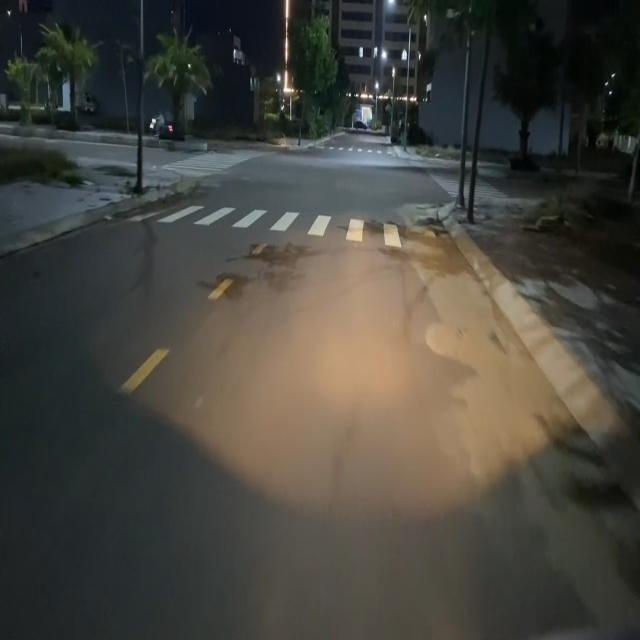walk-crossing: (126, 201, 442, 248)
